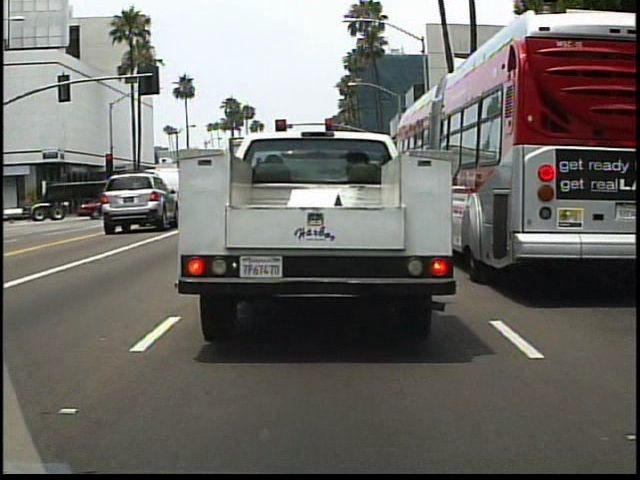person: (25, 194, 45, 227)
